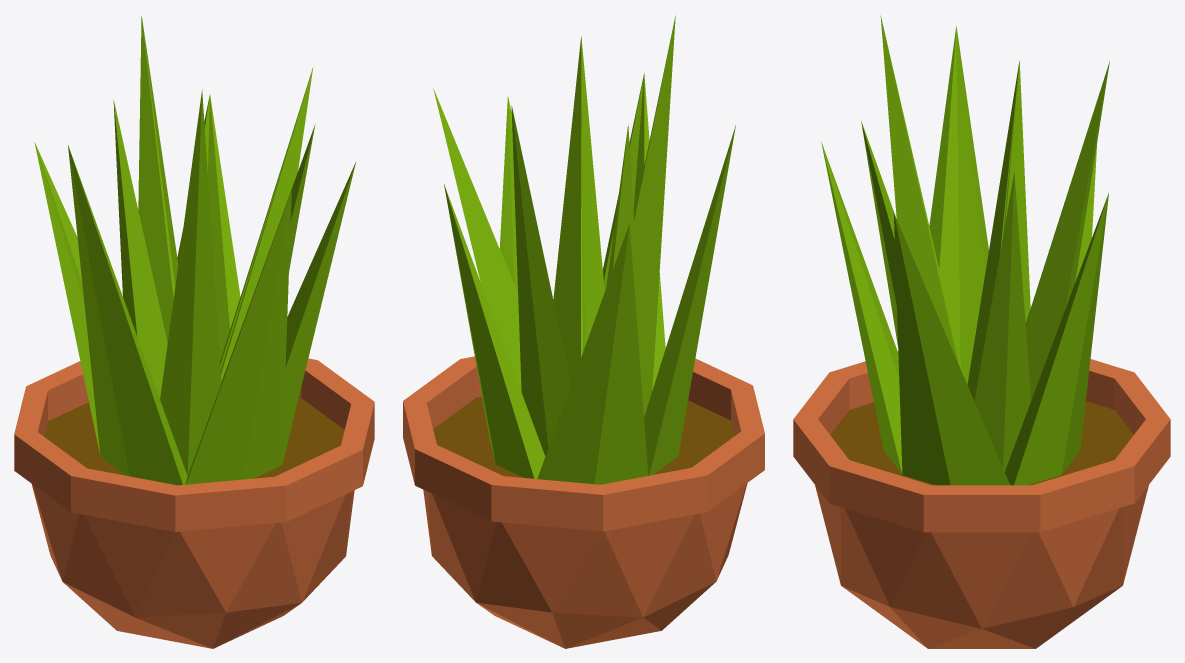
The model's file is pottedPlant.fbx.
3 renders of one model, left to right at view 1: azimuth 30°, elevation 25°; view 2: azimuth 150°, elevation 25°; view 3: azimuth 270°, elevation 25°, orthographic. The views are drawn at different scales.
Visible parts, largest first — view 1: pottedPlant; view 2: pottedPlant; view 3: pottedPlant.
Boxes of the visible parts, box(x1,y1,x2,y2) form: pottedPlant: box(14, 16, 374, 648); pottedPlant: box(403, 15, 764, 648); pottedPlant: box(793, 15, 1170, 648).
Size of the model in its own units: 206 by 369 by 216.
